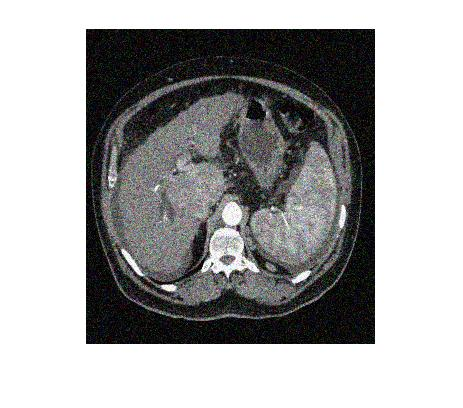Brain_Cancer: (164, 160, 223, 221)
